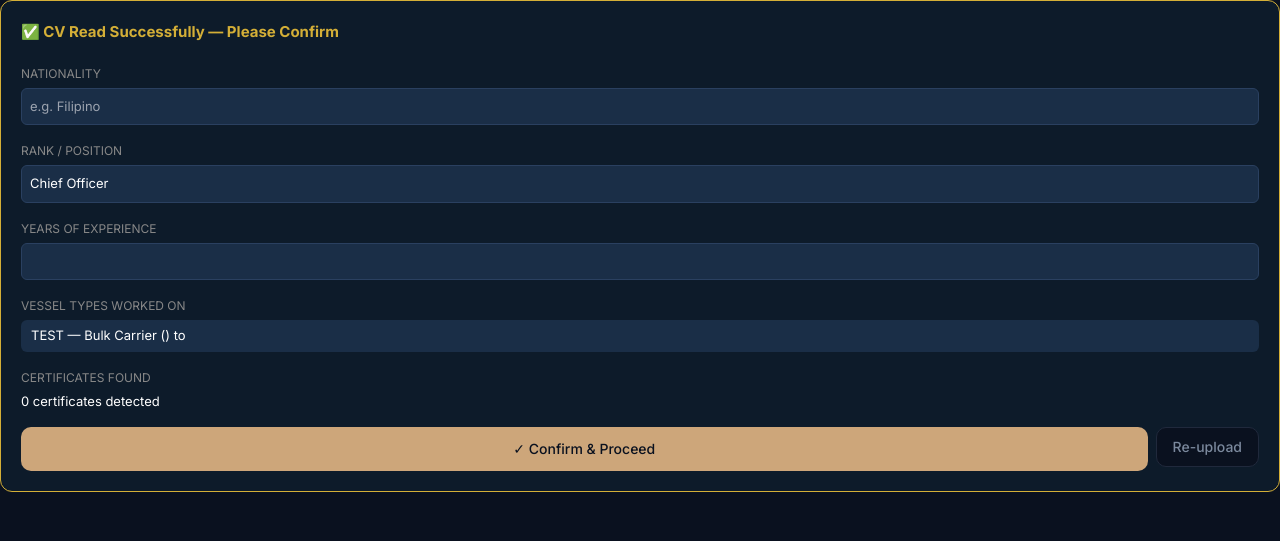
Test case: does not proceed when saving the scanned CV fails
Earlier steps of the test are not shown.
Click the button "✓ Confirm & Proceed": (584, 449) [21,427,1148,471]
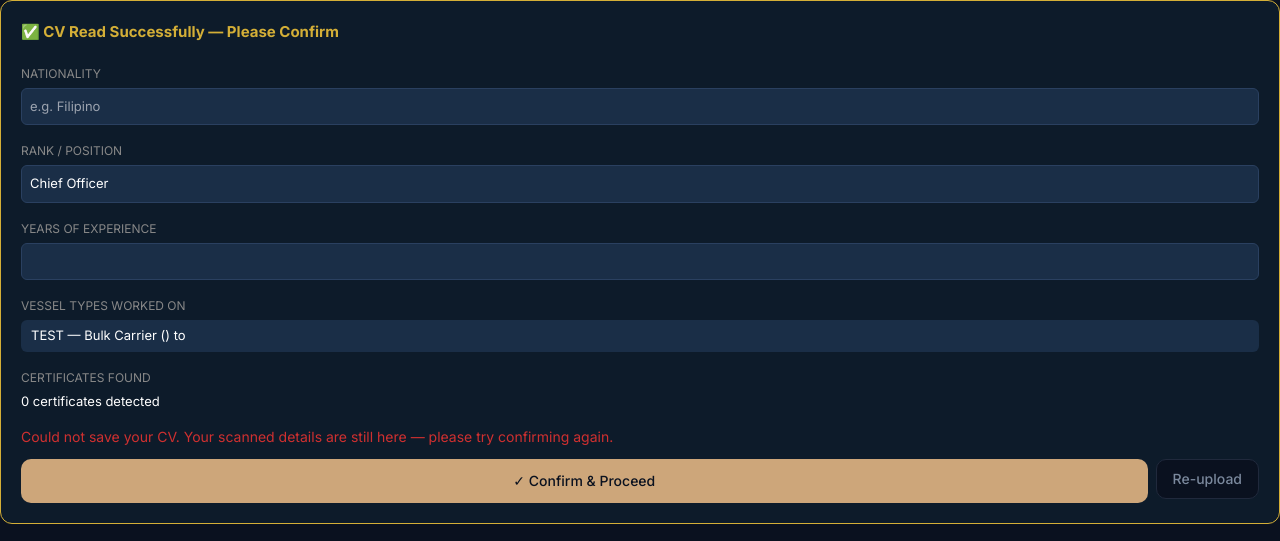
Result: the message is shown at [21,428,613,445]
